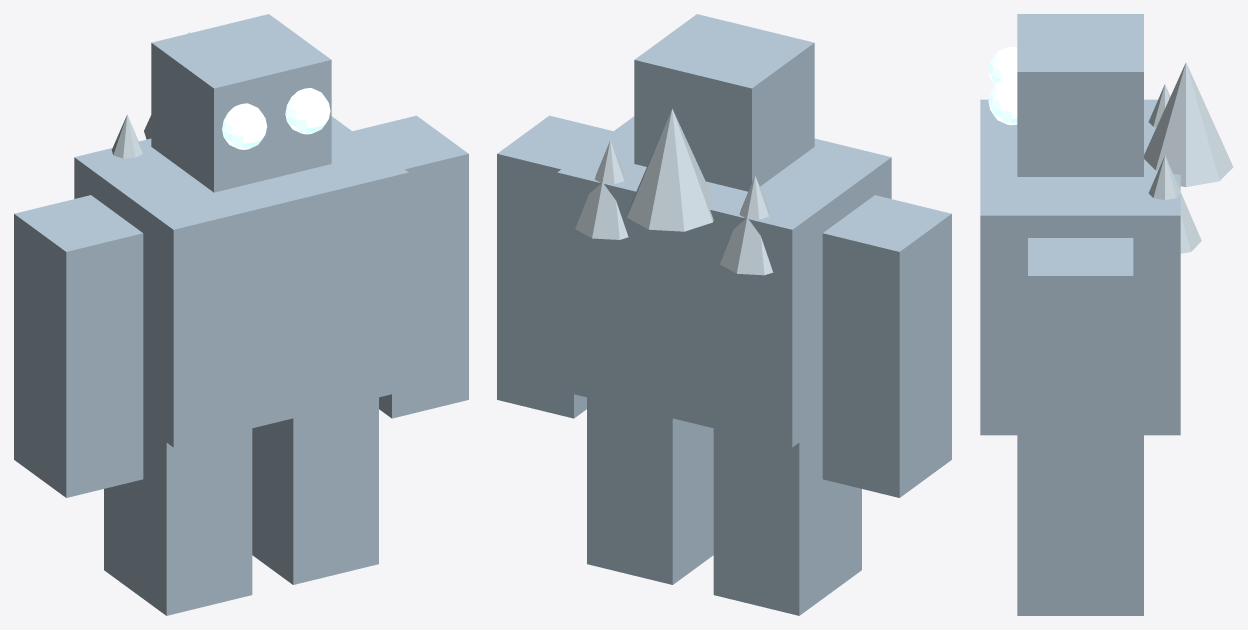
Rendered from creature_golem_ice.glb.
3 renders of one model, left to right at view 1: azimuth 30°, elevation 25°; view 2: azimuth 150°, elevation 25°; view 3: azimuth 270°, elevation 25°, orthographic.
Visible parts, largest first — view 1: creature_golem_ice; view 2: creature_golem_ice; view 3: creature_golem_ice.
Boxes of the visible parts, bbox=[...] form: creature_golem_ice: bbox=[14, 14, 468, 615]; creature_golem_ice: bbox=[497, 14, 951, 615]; creature_golem_ice: bbox=[980, 14, 1233, 615].
Size of the model in its own units: 0.8165 by 1 by 0.4404.
